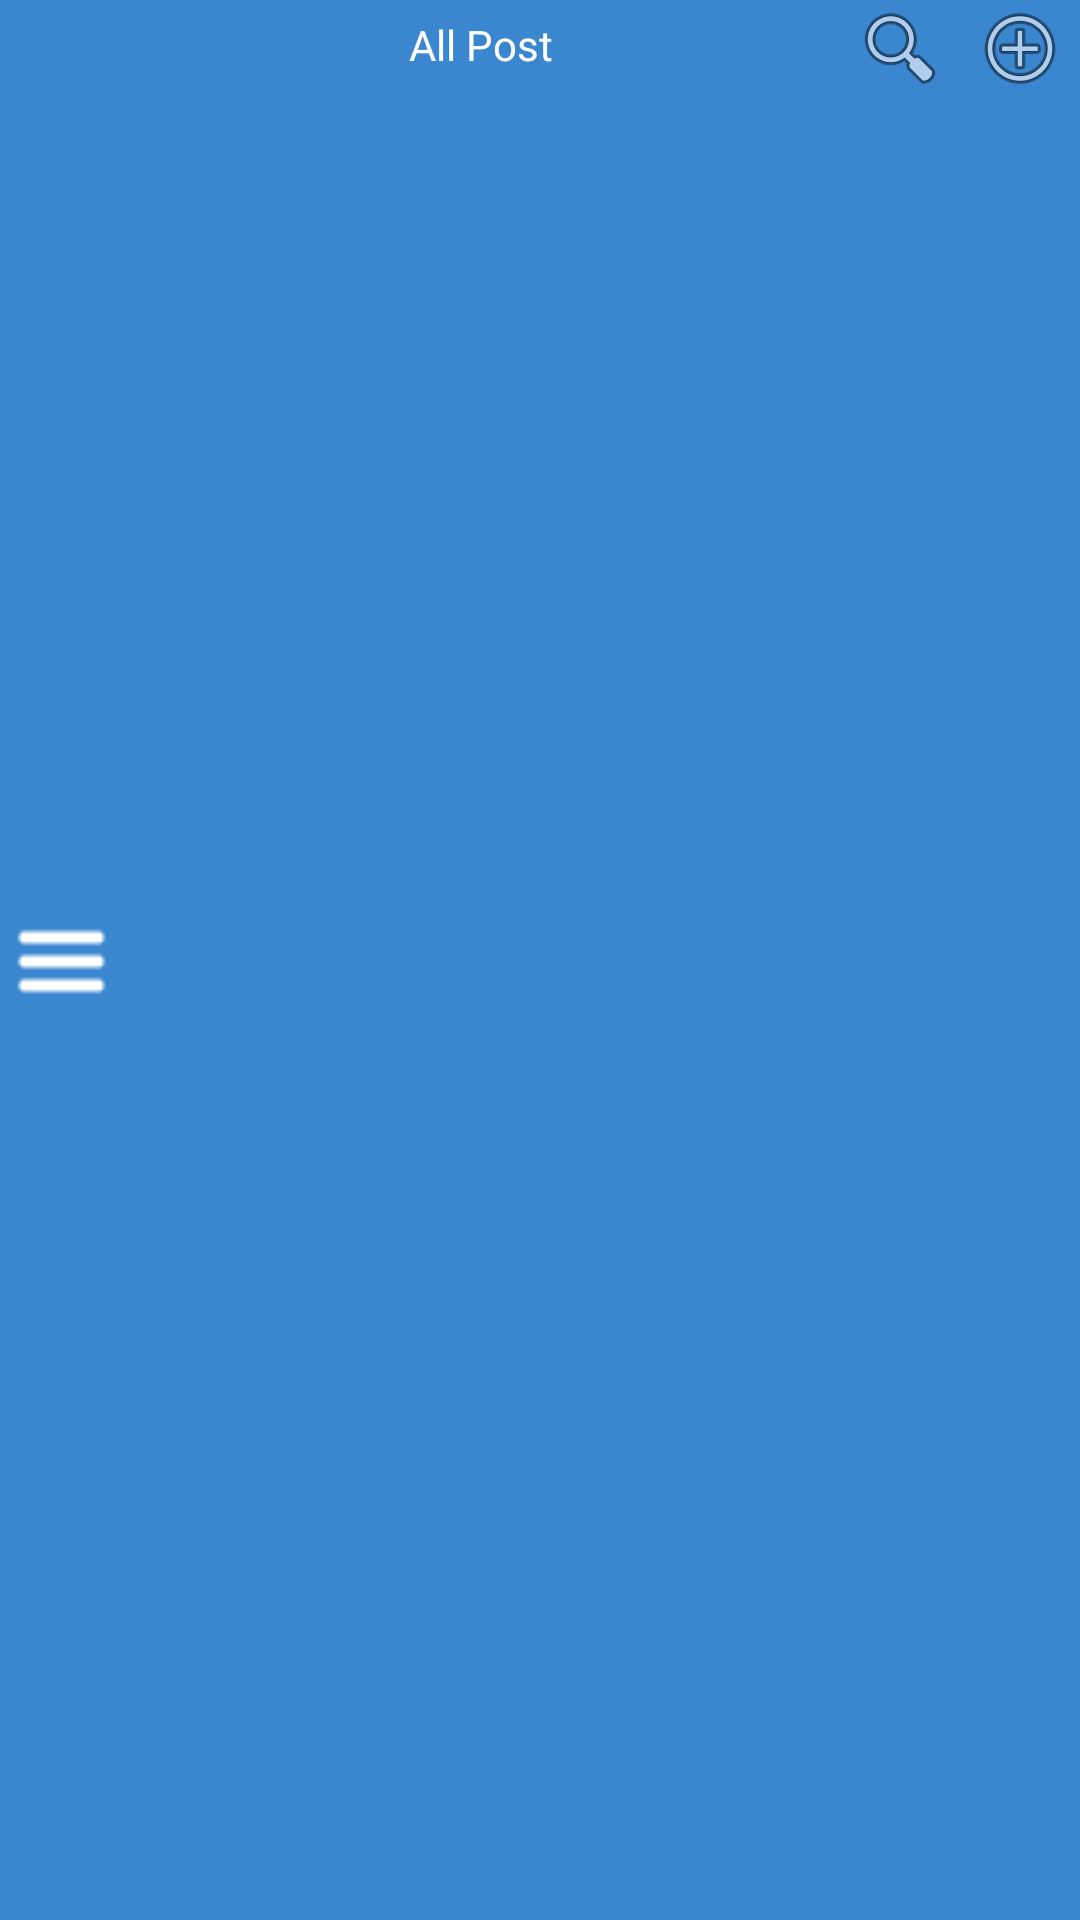

Screen size 1080*1920. Icon name, then its center in pixels as [x,y]:
add: [1020,48]
search: [900,48]
